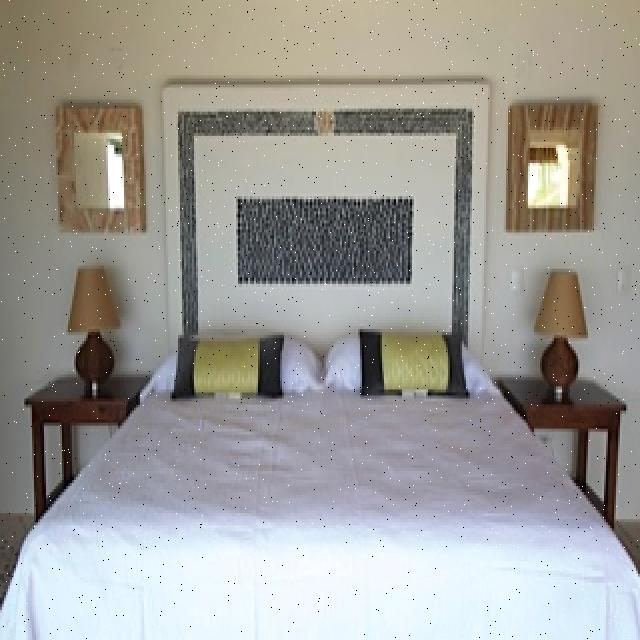bed: (100, 84, 500, 640)
